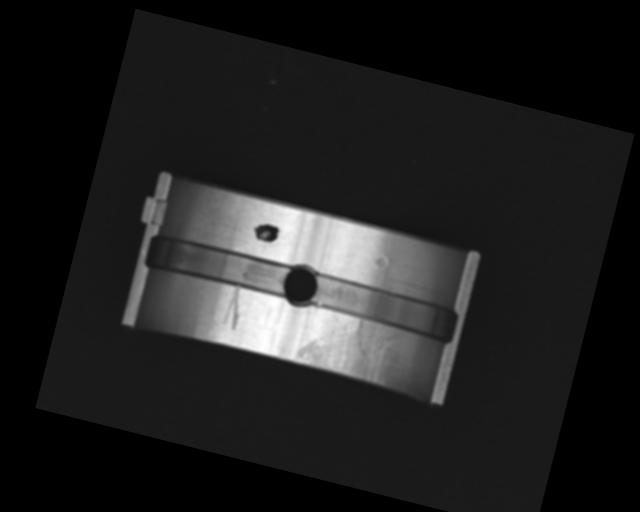blot: (250, 219, 280, 244)
bruise: (373, 253, 390, 272)
gap: (307, 272, 461, 345), (144, 231, 290, 299)
hole: (279, 260, 322, 309)
nick: (220, 282, 248, 330)
scratch: (293, 304, 402, 388)
